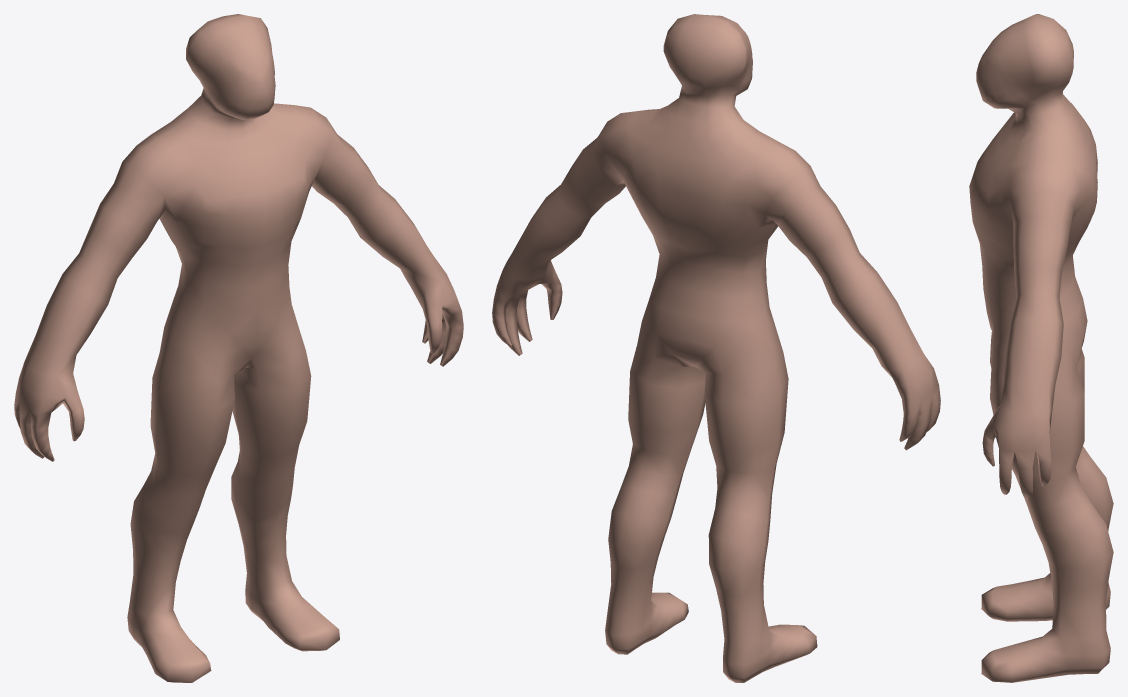
File: Human.fbx
3 views of the same model, side by side, from view 1: azimuth 30°, elevation 25°; view 2: azimuth 150°, elevation 25°; view 3: azimuth 270°, elevation 25° (orthographic).
Visible parts, largest first — view 1: CharacterFullAlienHorrorStyle:Alien_HorrorStyle; view 2: CharacterFullAlienHorrorStyle:Alien_HorrorStyle; view 3: CharacterFullAlienHorrorStyle:Alien_HorrorStyle.
Boxes of the visible parts, x1=… form: CharacterFullAlienHorrorStyle:Alien_HorrorStyle: x1=14, y1=14, x2=463, y2=682; CharacterFullAlienHorrorStyle:Alien_HorrorStyle: x1=492, y1=14, x2=940, y2=682; CharacterFullAlienHorrorStyle:Alien_HorrorStyle: x1=969, y1=14, x2=1113, y2=682.
Size of the model in its own units: 148 by 210 by 43.87.
